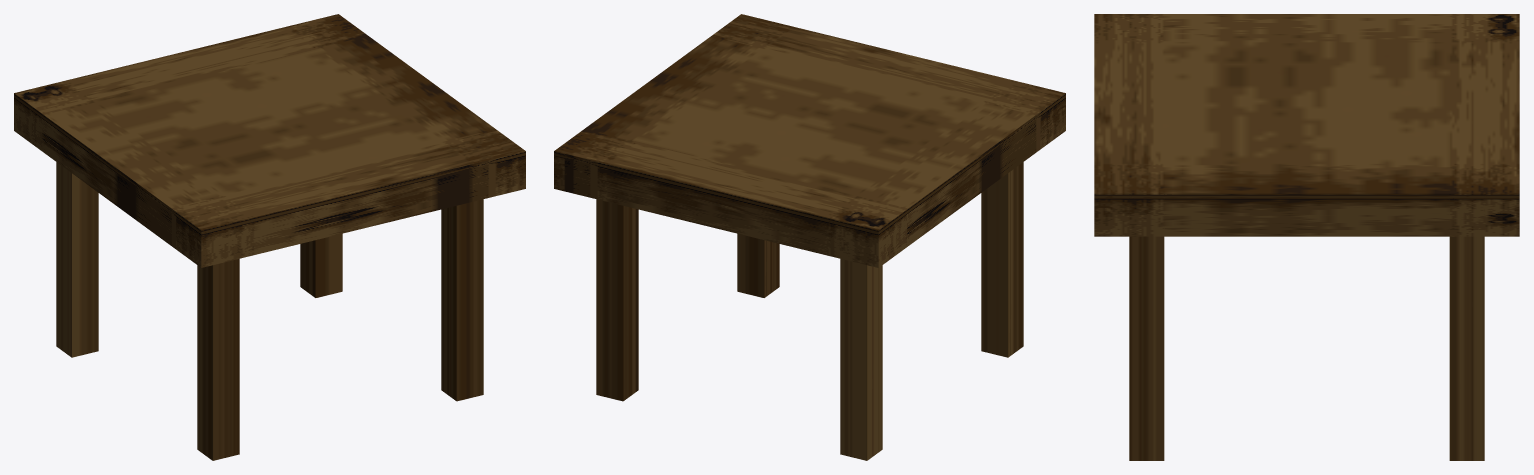
The model's file is table1.glb.
3 renders of one model, left to right at view 1: azimuth 30°, elevation 25°; view 2: azimuth 150°, elevation 25°; view 3: azimuth 270°, elevation 25°, orthographic. The views are drawn at different scales.
Parts seen in each view (by area): view 1: Cube; view 2: Cube; view 3: Cube.
Part boxes in pixels (x1=…): Cube: x1=14, y1=14, x2=525, y2=460; Cube: x1=554, y1=14, x2=1065, y2=460; Cube: x1=1094, y1=14, x2=1519, y2=460.
Bounding box in the file's own units: 2.02 × 1.48 × 2.02.
1 material, 1 textured.
